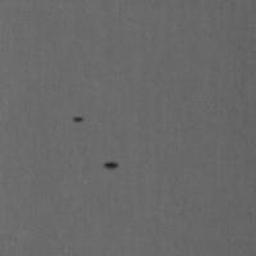Inclusion: (104, 163, 119, 170), (73, 116, 84, 123)
